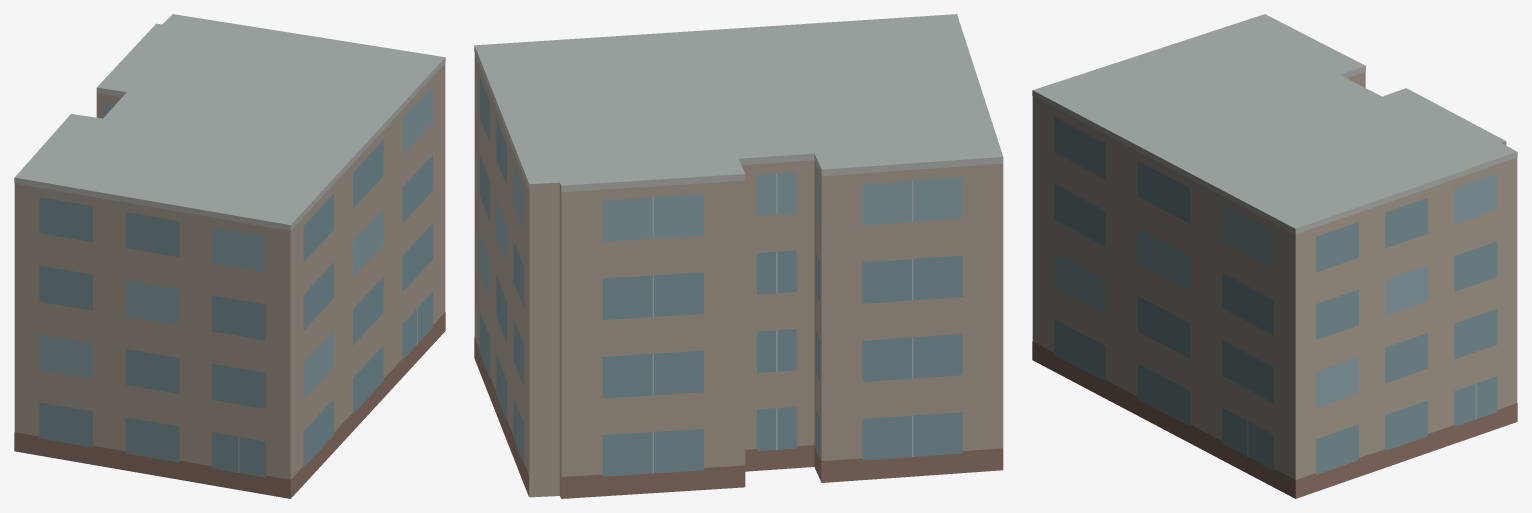
File: survey-upis-32814706.glb
3 renders of one model, left to right at view 1: azimuth 30°, elevation 25°; view 2: azimuth 150°, elevation 25°; view 3: azimuth 270°, elevation 25°, orthographic. The views are drawn at different scales.
Parts seen in each view (by area): view 1: survey-upis-32814706.tmp; view 2: survey-upis-32814706.tmp; view 3: survey-upis-32814706.tmp.
Part boxes in pixels (left/top/right/bottom): survey-upis-32814706.tmp: left=14, top=14, right=445, bottom=498; survey-upis-32814706.tmp: left=474, top=14, right=1003, bottom=498; survey-upis-32814706.tmp: left=1032, top=14, right=1517, bottom=498.
Bounding box in the file's own units: 19.81 × 11.6 × 18.89.
